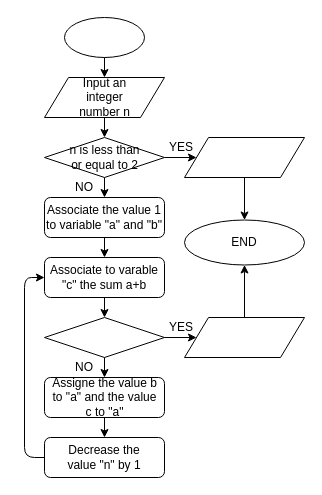
This 322x495 diagram has some shape labels left out. Each missing label, with the centre of its shape:
"n is less than or equal to 3" belongs at pixel 104 337.
"Return 1" belongs at pixel 244 157.
"Return c" belongs at pixel 244 337.
"START" belongs at pixel 104 37.
